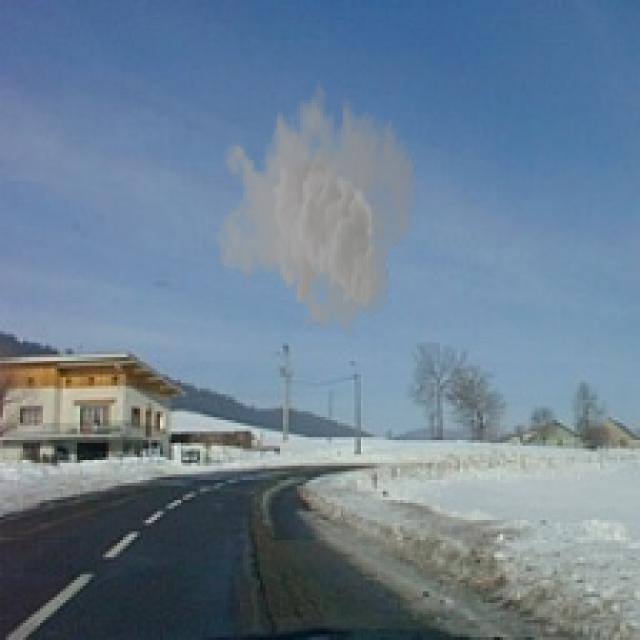smoke: (214, 71, 420, 343)
